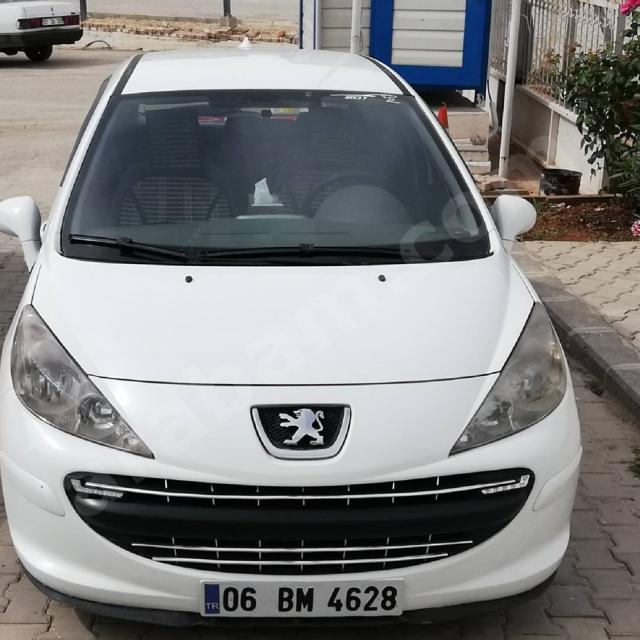license_plate: (203, 581, 402, 617)
